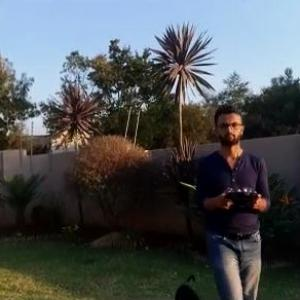follow: (192, 102, 275, 299)
null: (170, 270, 204, 299)
